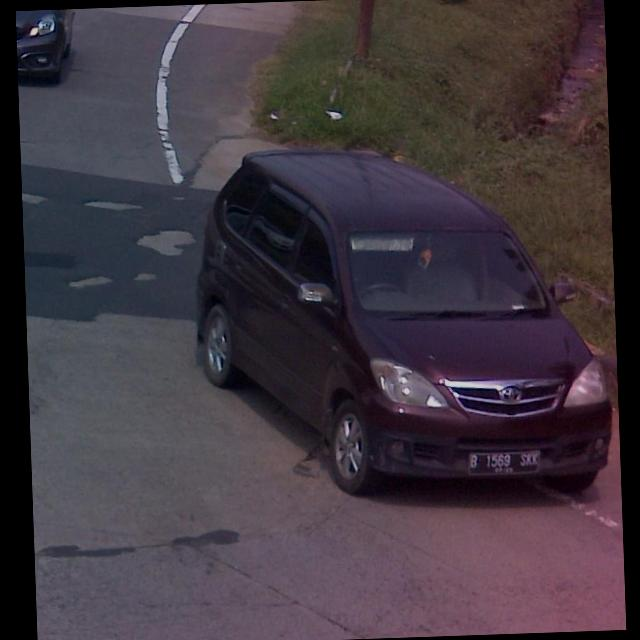plate: (468, 447, 540, 474)
